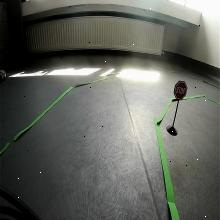stop: (174, 81, 188, 100)
